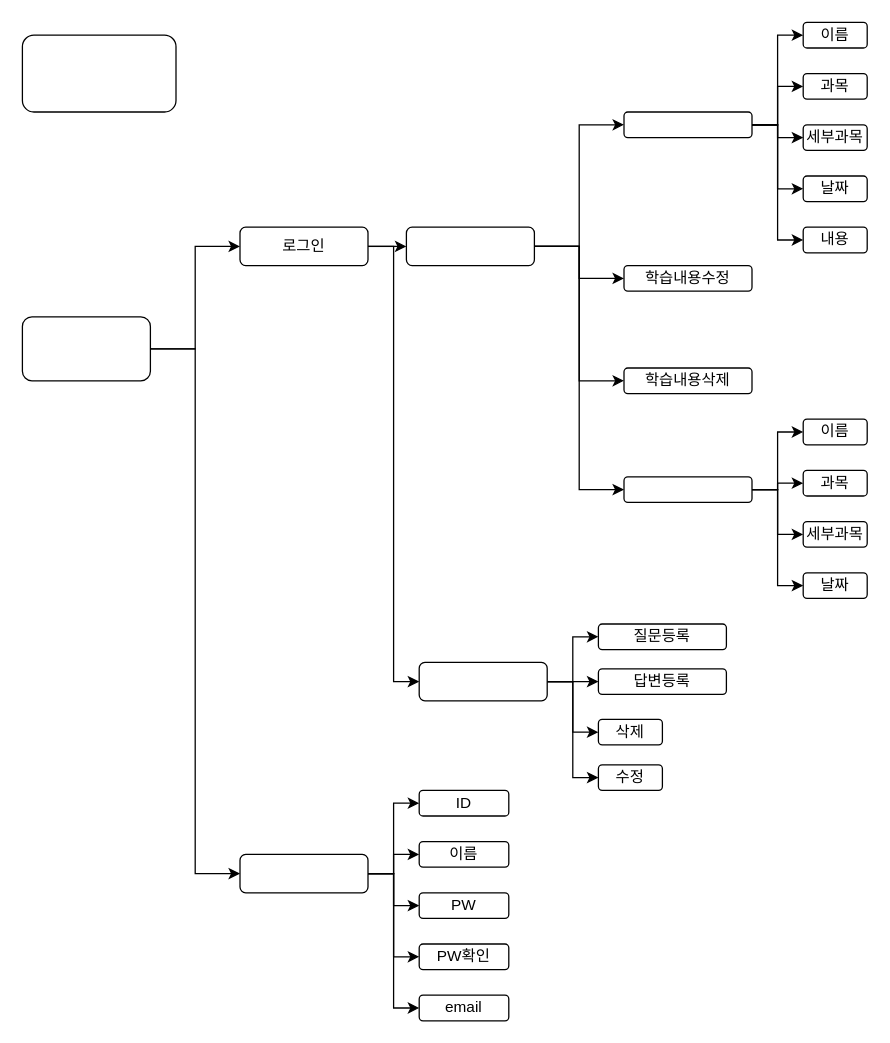
Some shapes in this 890 by 1043 pixel diagram are drawn without their labels. The centre of each missing label's shape, as x and y in pixels:
QnA 게시판: point (482, 681)
등록된 학습목록페이지: point (469, 246)
메인화면: point (85, 348)
학습관리시스템: point (98, 73)
학습내용검색: point (687, 489)
학습내용등록: point (687, 124)
회원가입: point (303, 873)
